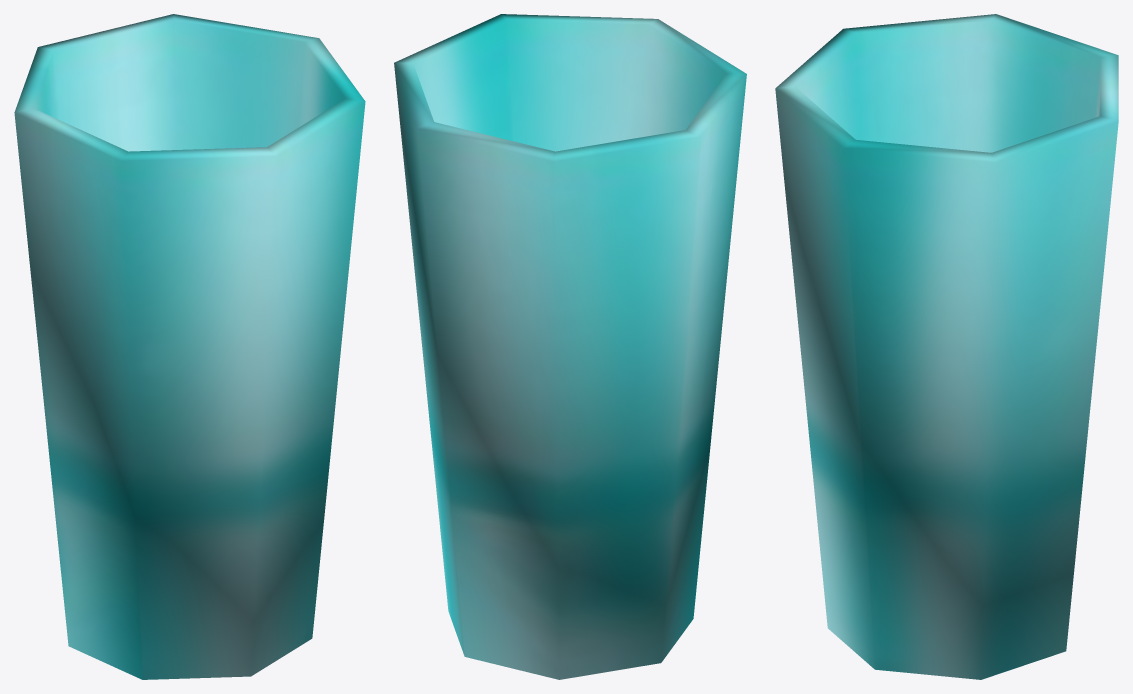
File: Cup_01.dae
The picture shows the model from 3 angles, left to right: view 1: azimuth 30°, elevation 25°; view 2: azimuth 150°, elevation 25°; view 3: azimuth 270°, elevation 25°; orthographic projection.
Parts seen in each view (by area): view 1: Cup_01; view 2: Cup_01; view 3: Cup_01.
Part boxes in pixels (left/top/right/bottom): Cup_01: left=14, top=14, right=365, bottom=679; Cup_01: left=394, top=14, right=746, bottom=679; Cup_01: left=775, top=14, right=1118, bottom=679.
Size of the model in its own units: 0.1534 by 0.1496 by 0.2603.
1 material, 1 textured.
